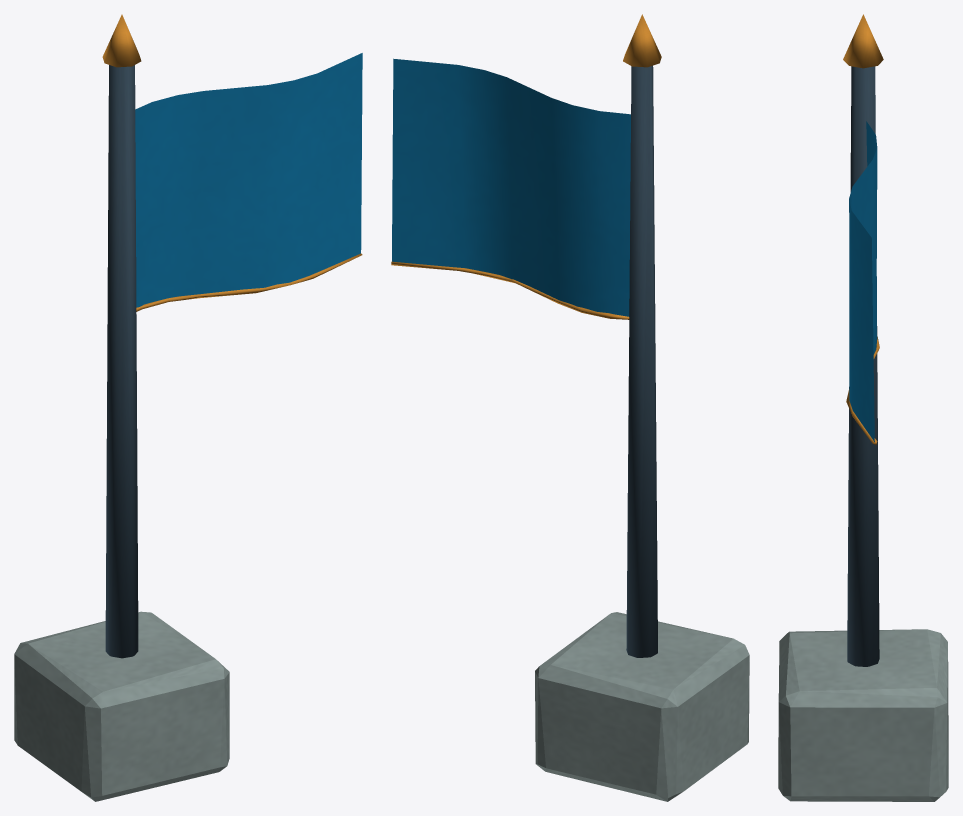
Rendered from SM_banner_LOD2.fbx.
3 views of the same model, side by side, from view 1: azimuth 30°, elevation 25°; view 2: azimuth 150°, elevation 25°; view 3: azimuth 270°, elevation 25° (orthographic).
Visible parts, largest first — view 1: SM_banner_LOD2; view 2: SM_banner_LOD2; view 3: SM_banner_LOD2.
Boxes of the visible parts, left/top/right/bottom form: SM_banner_LOD2: left=14, top=14, right=362, bottom=801; SM_banner_LOD2: left=391, top=14, right=749, bottom=801; SM_banner_LOD2: left=778, top=14, right=948, bottom=801.
Bounding box in the file's own units: 1.18 × 0.542 × 2.66.
